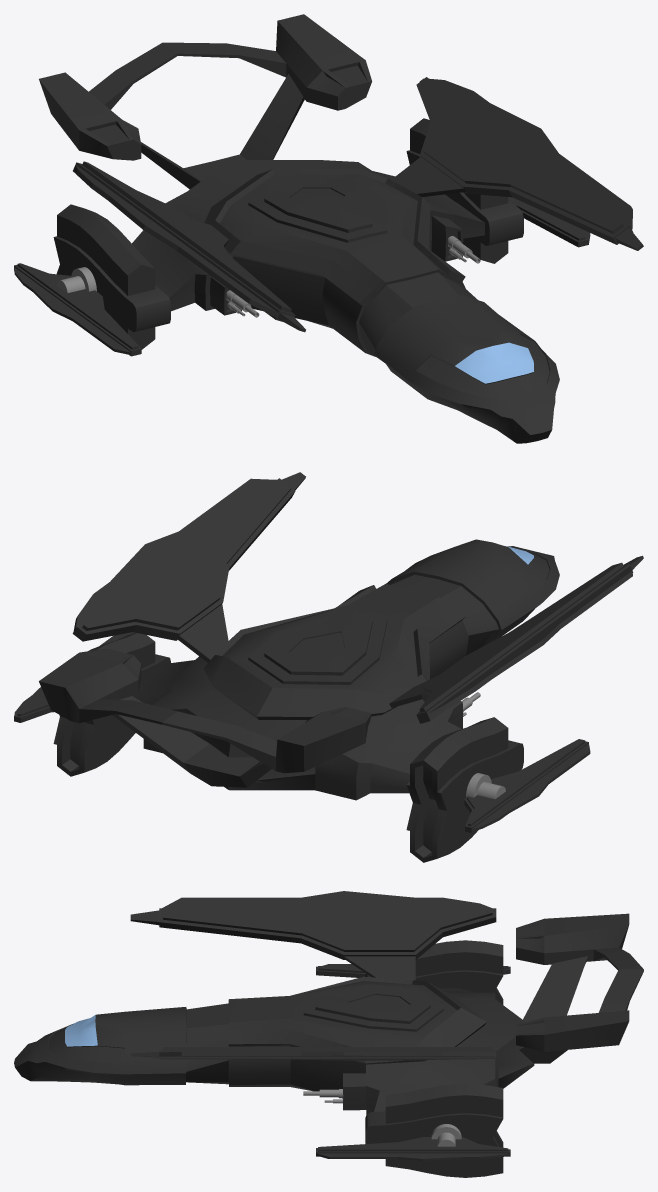
File: Paragon.glb
3 renders of one model, top to bottom at view 1: azimuth 30°, elevation 25°; view 2: azimuth 150°, elevation 25°; view 3: azimuth 270°, elevation 25°, orthographic. The views are drawn at different scales.
Visible parts, largest first — view 1: Куб; view 2: Куб; view 3: Куб.
Boxes of the visible parts, <box> form: Куб: <box>14,14,643,443</box>; Куб: <box>14,472,643,862</box>; Куб: <box>14,891,643,1177</box>.
Size of the model in its own units: 0.6689 by 0.2201 by 0.9035.
